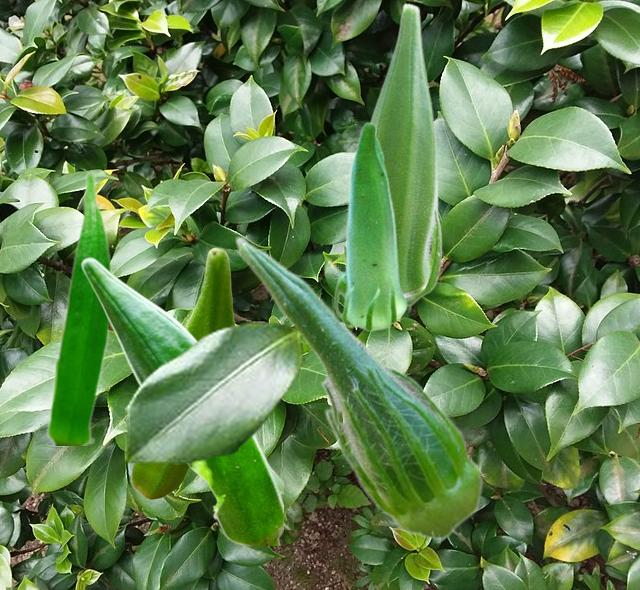okra: (234, 235, 483, 539), (80, 257, 282, 544), (342, 2, 442, 306), (131, 247, 235, 498), (46, 169, 112, 444), (333, 121, 407, 331)
